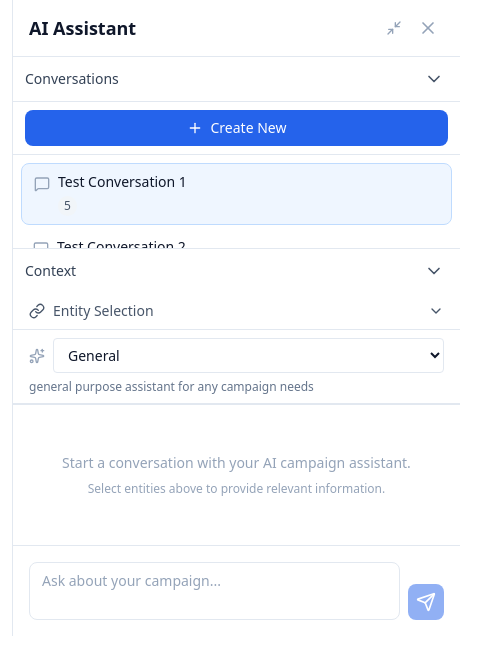
Test: ChatPanel Component - Collapsible Conversations Section (Issue #203) › should hide conversation items when collapse button is clicked
Expected: the text "Test Conversation 1" is shown, [58,172,187,191]
Note: Click to collapse
What coordinates should you click on to do the following:
click the button named "toggle conversations"
I would click on:
 (434, 79)
Its box is [420,65,448,93].
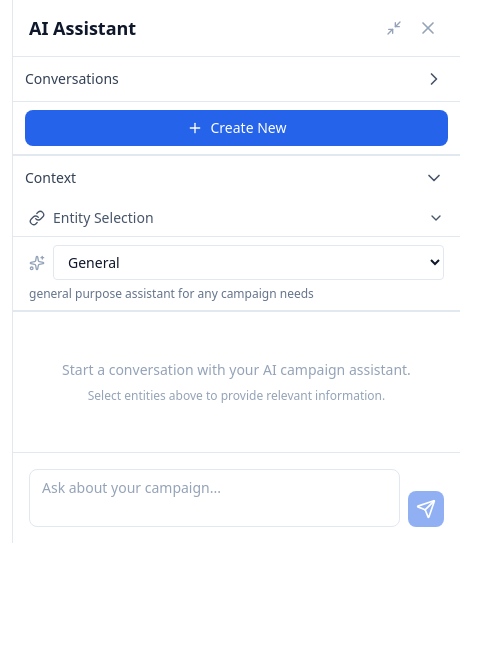
Now the button "Test Conversation 1" is gone
